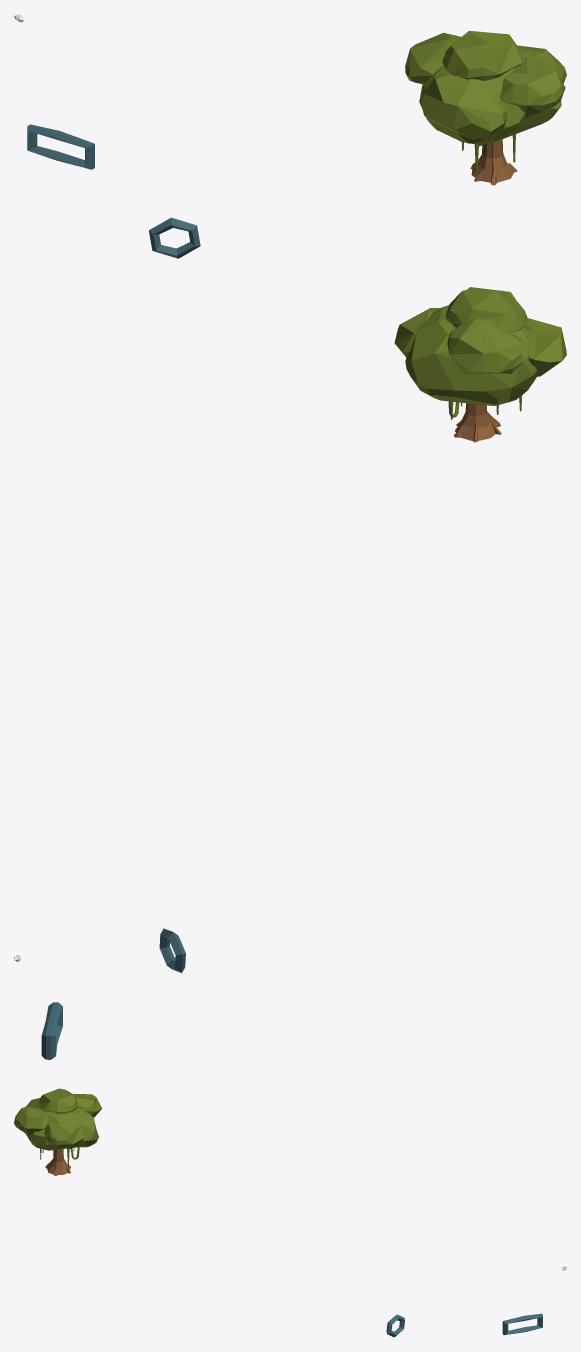
3 renders of one model, top to bottom at view 1: azimuth 30°, elevation 25°; view 2: azimuth 150°, elevation 25°; view 3: azimuth 270°, elevation 25°, orthographic. The views are drawn at different scales.
Visible parts, largest first — view 1: Box15032_green2_0, Box15028_green2_0, Box15029_green2_0, Box15033_green2_0, Box15031_green2_0, Torus055_metal_0, Cylinder1347_brown_0, Torus028_metal_0, Box15030_green2_0; view 2: Box15033_green2_0, Box15031_green2_0, Box15028_green2_0, Box15032_green2_0, Cylinder1347_brown_0, Torus055_metal_0; view 3: Box15033_green2_0, Box15030_green2_0, Box15028_green2_0, Box15029_green2_0, Torus055_metal_0, Cylinder1347_brown_0, Box15031_green2_0.
Boxes of the visible parts, box(x1,y1,x2,y2) form: Box15032_green2_0: box(421, 74, 507, 139); Box15028_green2_0: box(442, 30, 522, 80); Box15029_green2_0: box(499, 56, 565, 117); Box15033_green2_0: box(419, 46, 561, 144); Box15031_green2_0: box(405, 32, 460, 84); Torus055_metal_0: box(27, 124, 94, 169); Cylinder1347_brown_0: box(470, 139, 517, 185); Torus028_metal_0: box(149, 217, 200, 258); Box15030_green2_0: box(517, 45, 566, 83); Box15033_green2_0: box(405, 305, 537, 405); Box15031_green2_0: box(447, 318, 525, 374); Box15028_green2_0: box(445, 289, 527, 332); Box15032_green2_0: box(524, 318, 566, 376); Cylinder1347_brown_0: box(453, 403, 501, 442); Torus055_metal_0: box(41, 1002, 62, 1059); Box15033_green2_0: box(25, 1105, 98, 1150); Box15030_green2_0: box(44, 1122, 85, 1148); Box15028_green2_0: box(38, 1088, 77, 1113); Box15029_green2_0: box(14, 1106, 49, 1135); Torus055_metal_0: box(502, 1313, 542, 1335); Cylinder1347_brown_0: box(45, 1149, 70, 1175); Box15031_green2_0: box(73, 1094, 102, 1117).
Size of the model in its own units: 1226 by 3509 by 7228.
